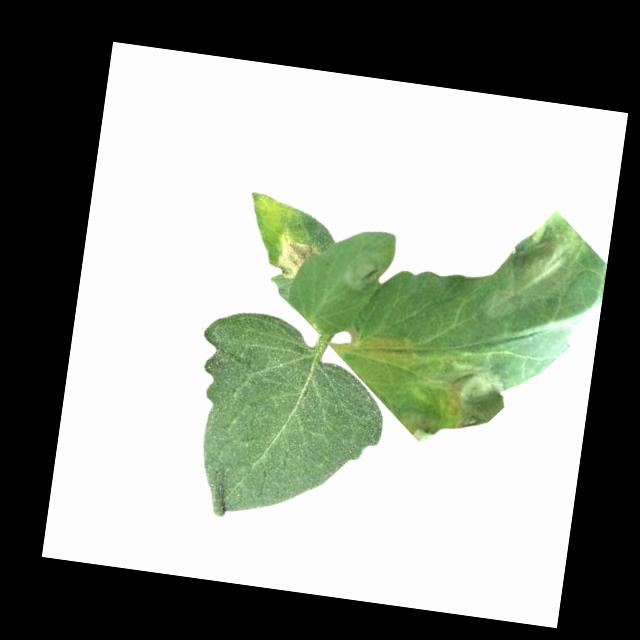Late_blight: (483, 227, 582, 326), (411, 353, 511, 435), (274, 229, 326, 283), (342, 249, 386, 294), (395, 407, 440, 445)
healthy: (178, 306, 396, 542)
